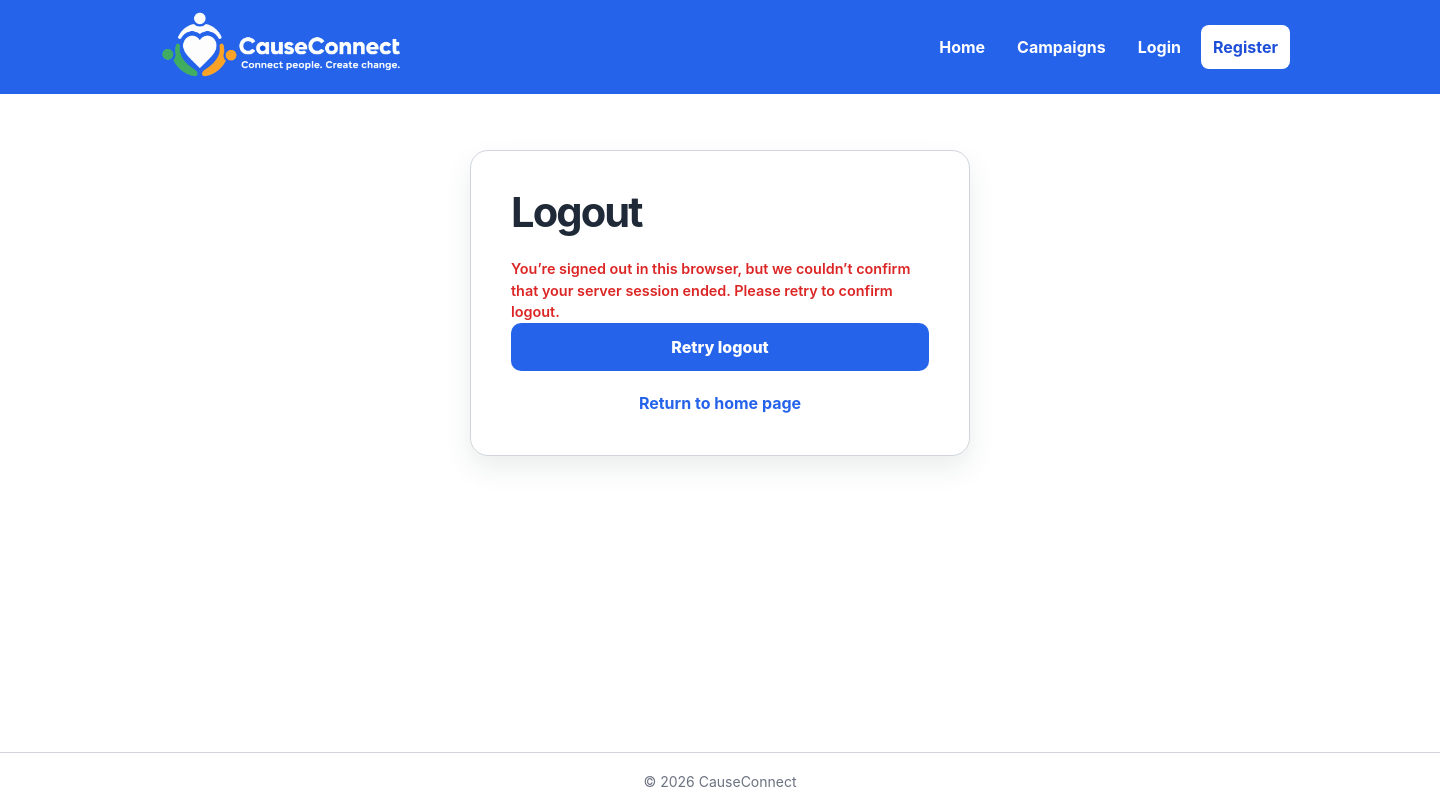
logout in the application shell › retains the memory-only token for retry after a failed server logout
Check: the message shows "couldn’t confirm", box [511, 260, 910, 320]
Check: the text "You’re logged out." is not shown
Click the button "Retry logout" at (720, 347), box [511, 323, 929, 371]
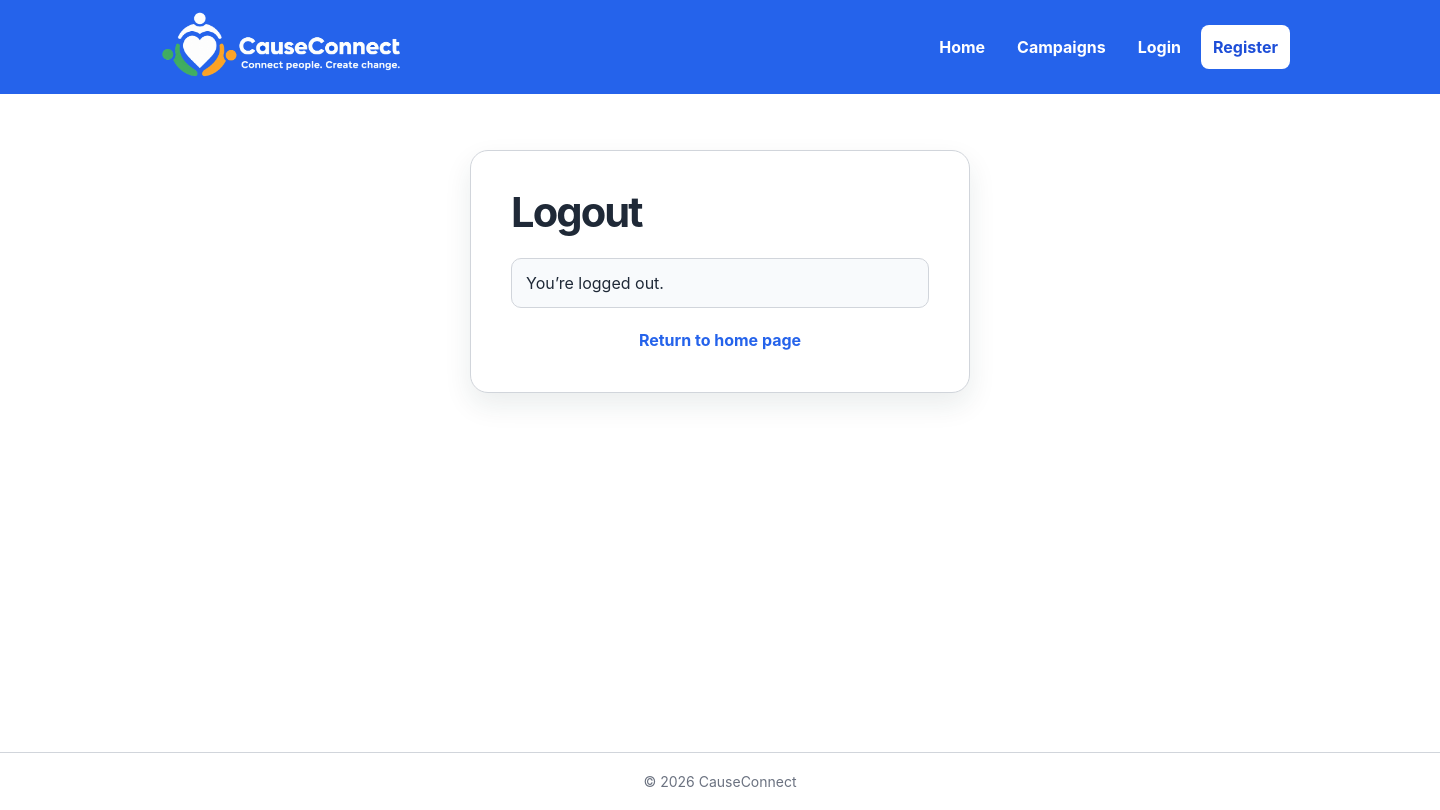
Check: the text "You’re logged out." is shown, box [511, 258, 929, 308]
